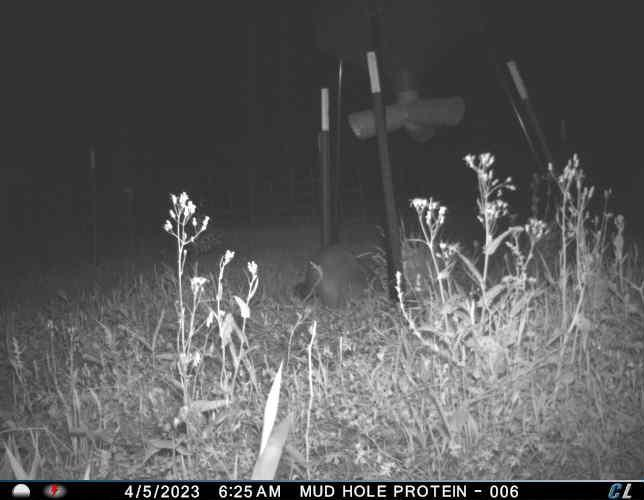Raccoon: (291, 239, 383, 309)
